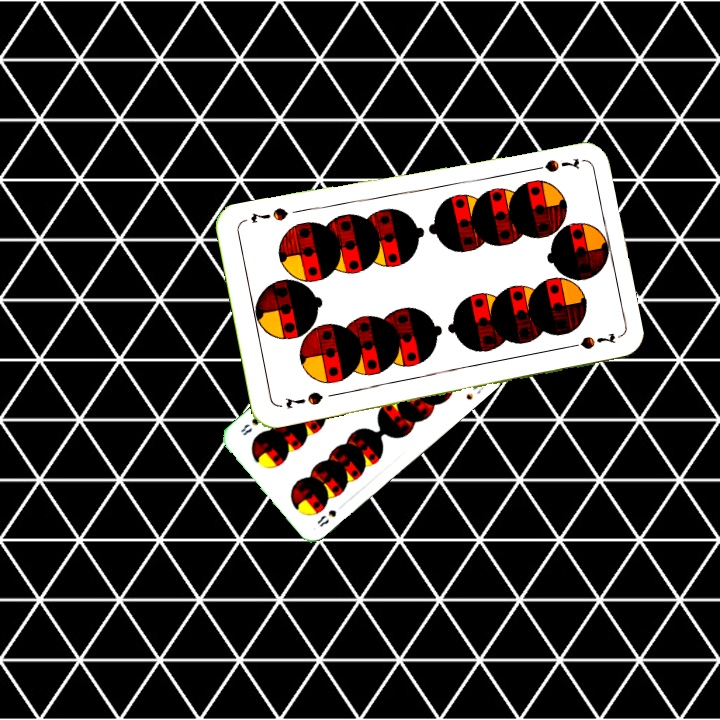S7: (525, 154, 582, 175), (281, 387, 326, 411)
S8: (313, 506, 339, 529)
